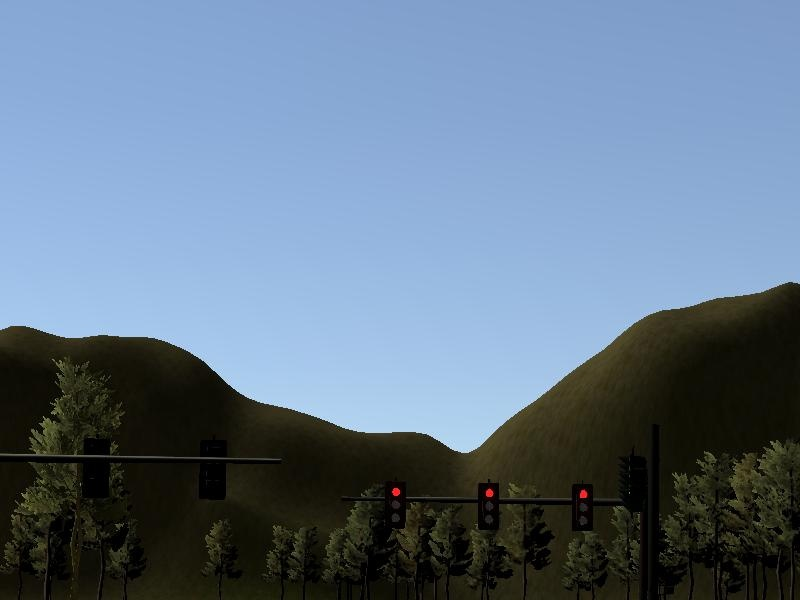traffic_light_red: (375, 482, 615, 533)
